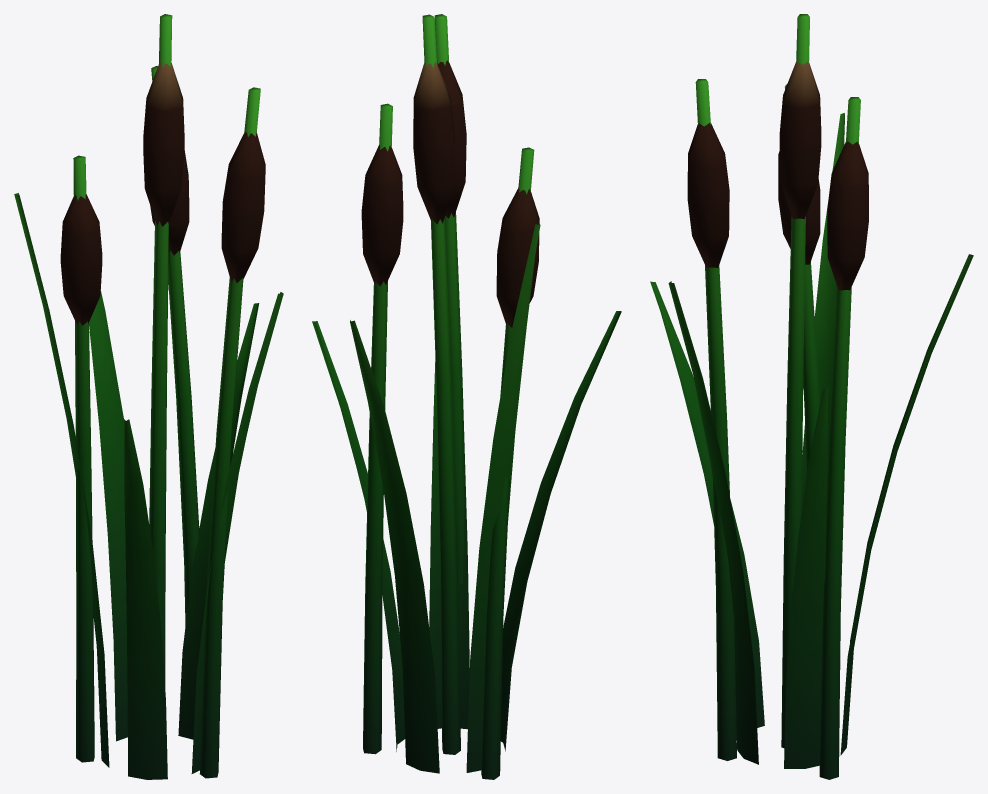
Rendered from cattail.glb.
3 renders of one model, left to right at view 1: azimuth 30°, elevation 25°; view 2: azimuth 150°, elevation 25°; view 3: azimuth 270°, elevation 25°, orthographic.
Parts seen in each view (by area): view 1: Cattail; view 2: Cattail; view 3: Cattail.
Boxes of the visible parts, x1=… form: Cattail: x1=14, y1=14, x2=283, y2=779; Cattail: x1=312, y1=14, x2=621, y2=779; Cattail: x1=650, y1=14, x2=973, y2=779.
Bounding box in the file's own units: 0.4328 × 1.28 × 0.5091.
